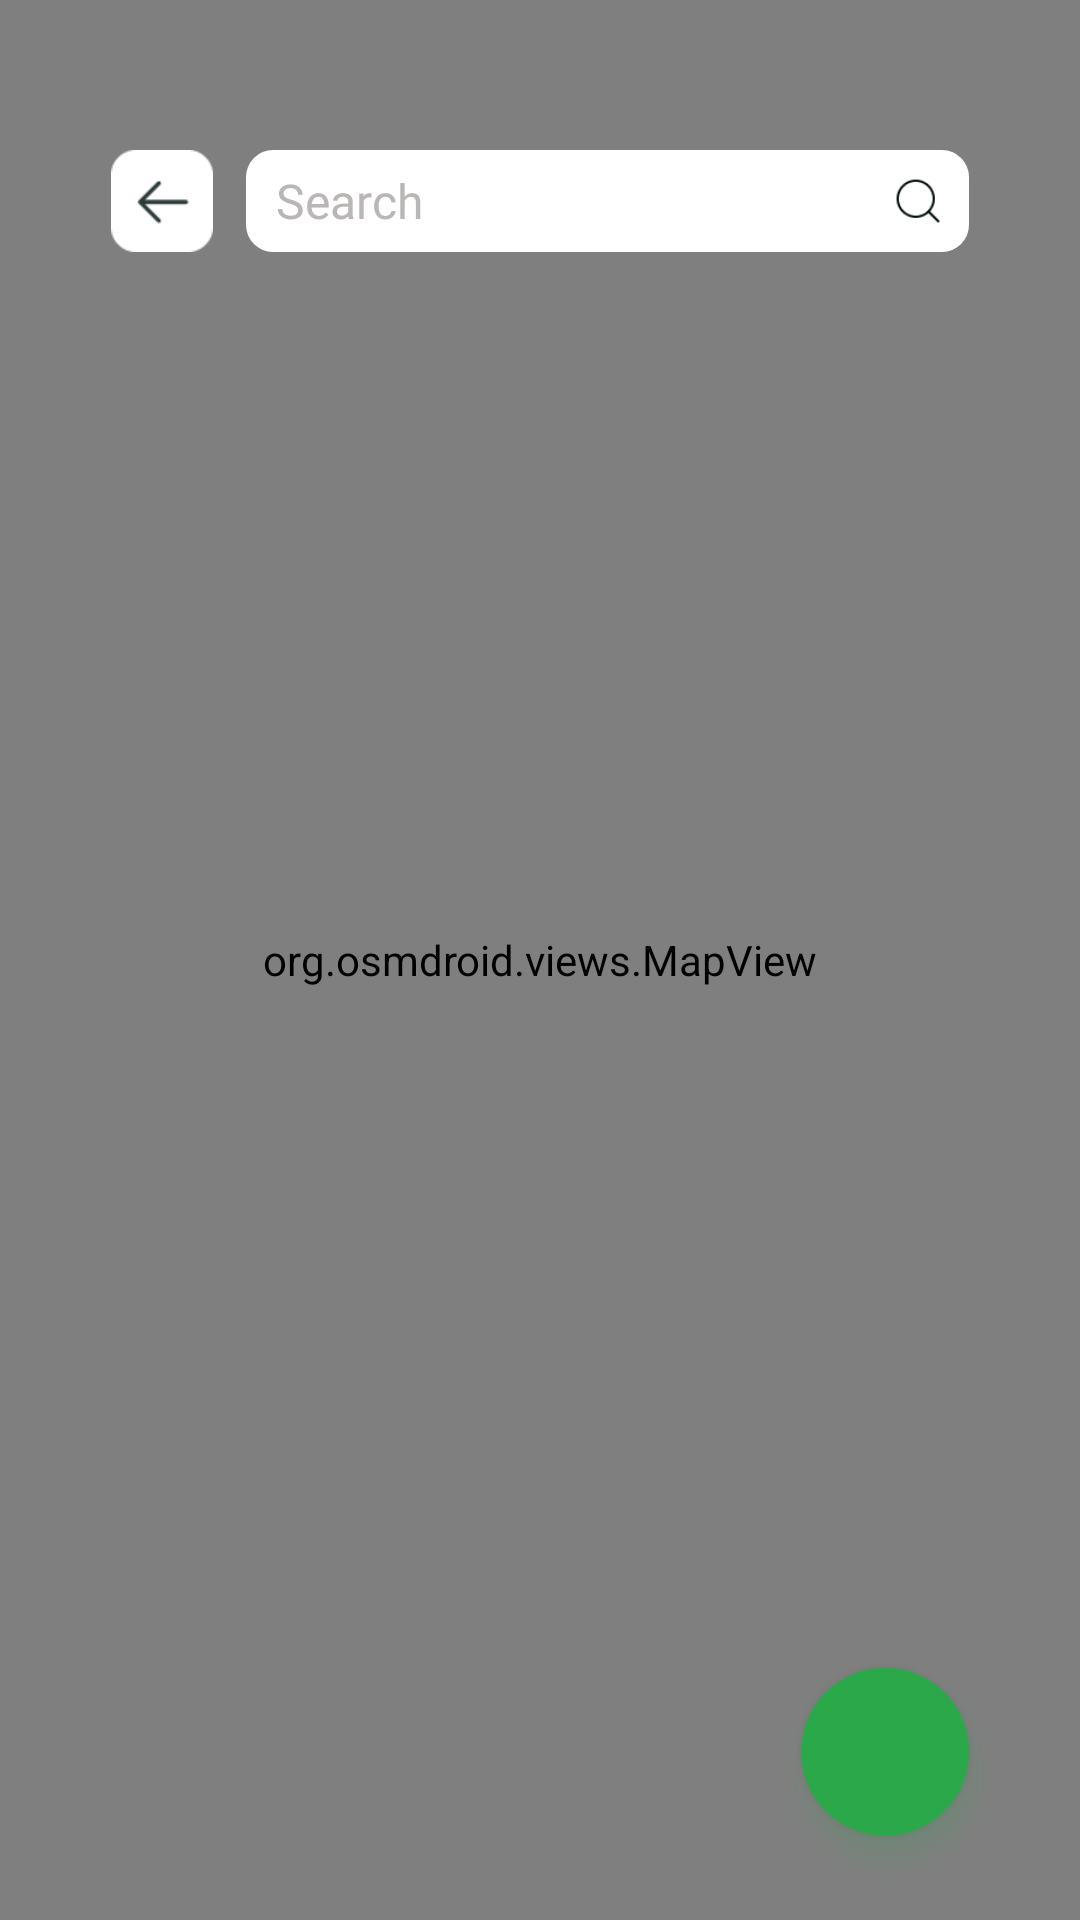

Named icons in this screenshot (1080×1920) and their centers, [x,y]:
back no stroke: [162,201]
